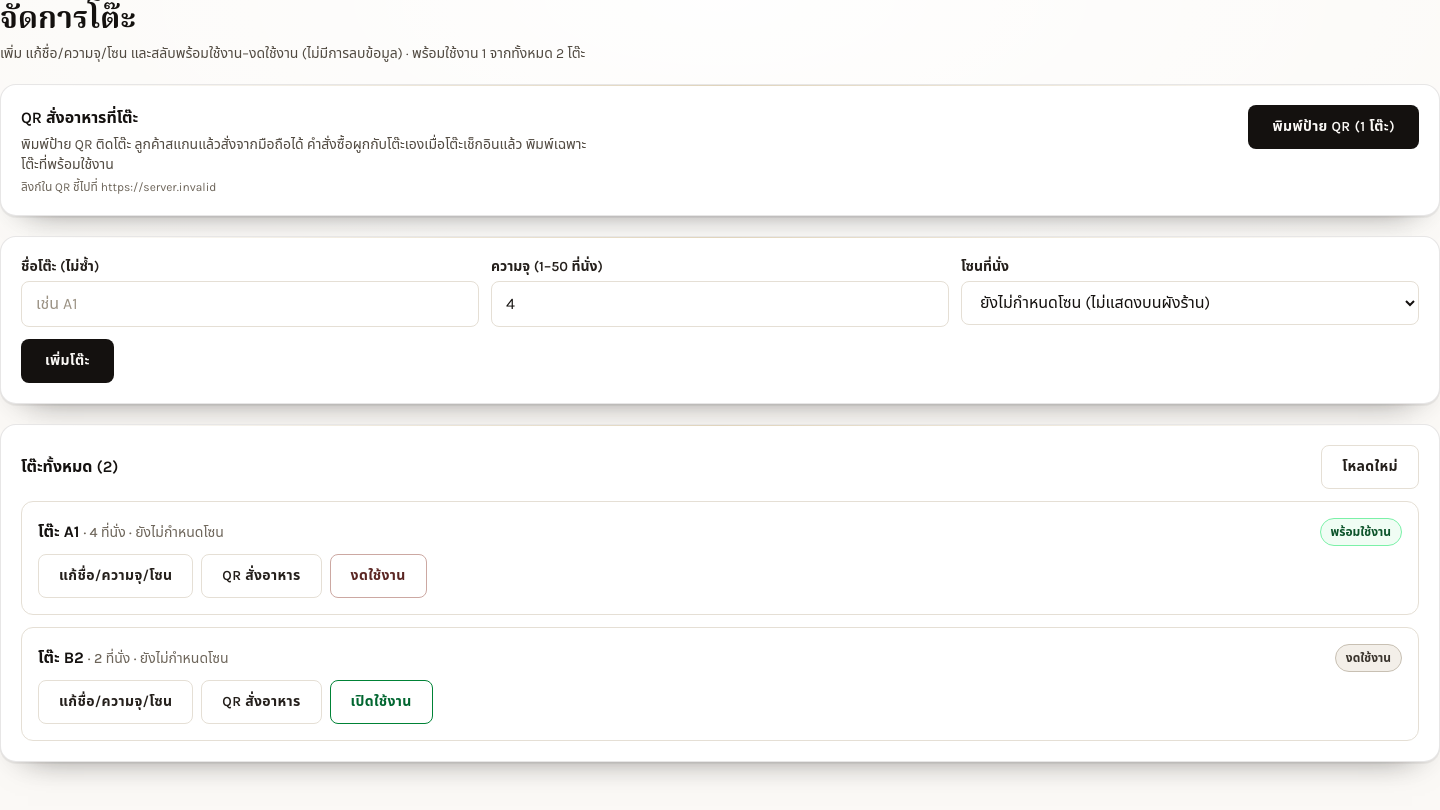
Test: หน้าจัดการโต๊ะ (Owner/Admin) › เพิ่มโต๊ะสำเร็จแสดงข้อความสำเร็จ
Expected: the text "โต๊ะ A1 · 4 ที่นั่ง · ยังไม่กำหนดโซน" is shown, [38,520,224,544]
Type "C3" into the field labelled "ชื่อโต๊ะ (ไม่ซ้ำ)". click: (250, 304)
box: [21,281,479,327]
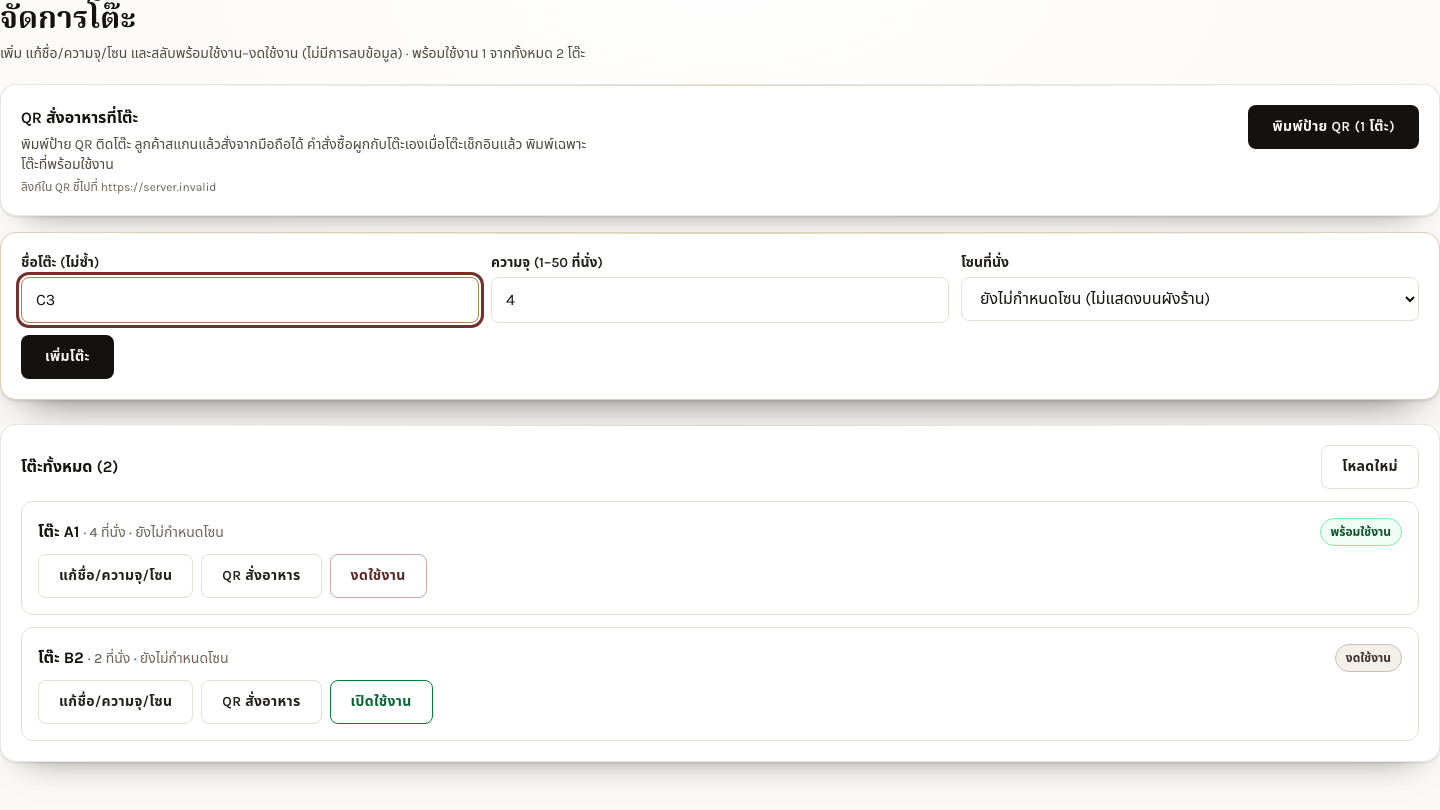
Replace the text in the field labelled "ความจุ (1–50 ที่นั่ง)" with "6". click: (720, 300)
box: [491,277,949,323]
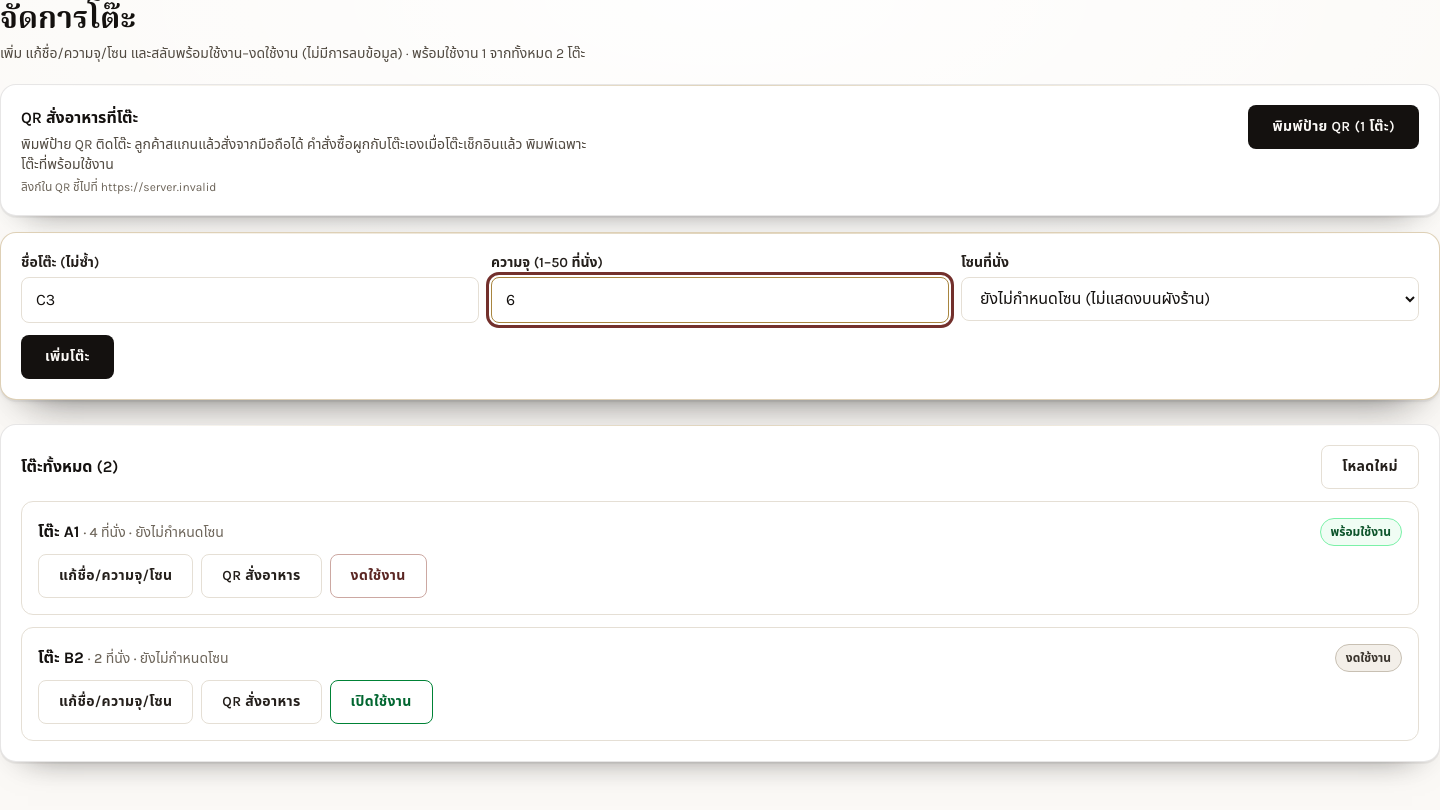
Click the button "เพิ่มโต๊ะ". click: (67, 357)
box: [21,335,114,379]
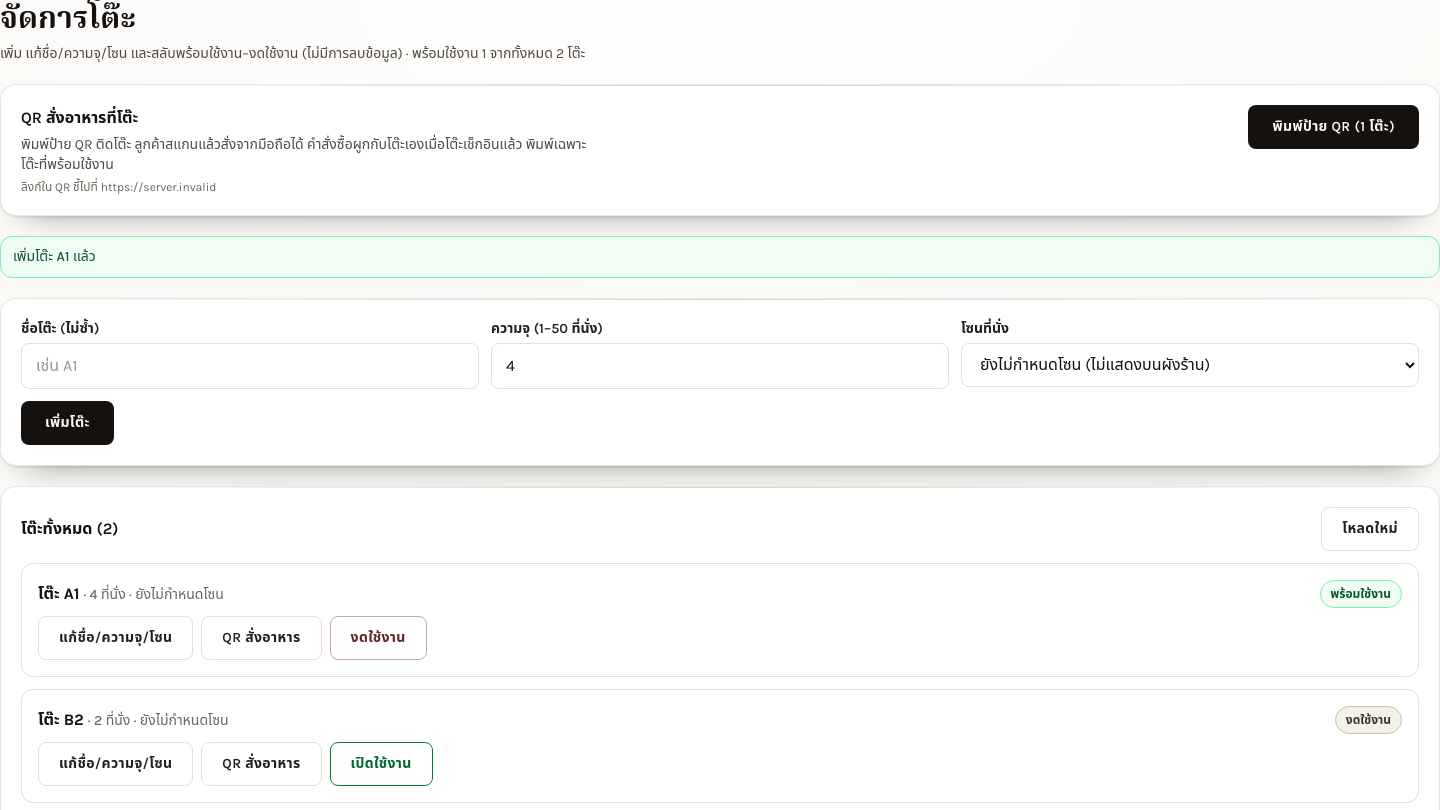
Result: the message shows "เพิ่มโต๊ะ" at [13,248,96,265]
